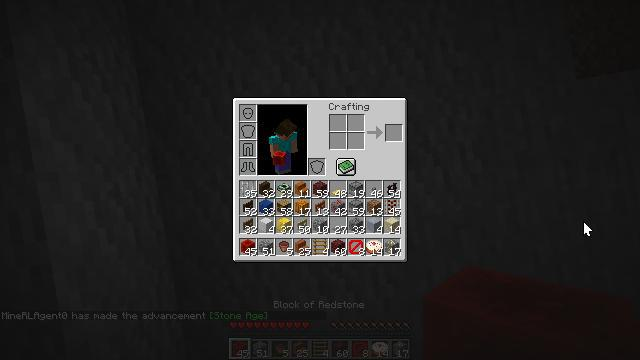cursor: (583, 221, 593, 237)
